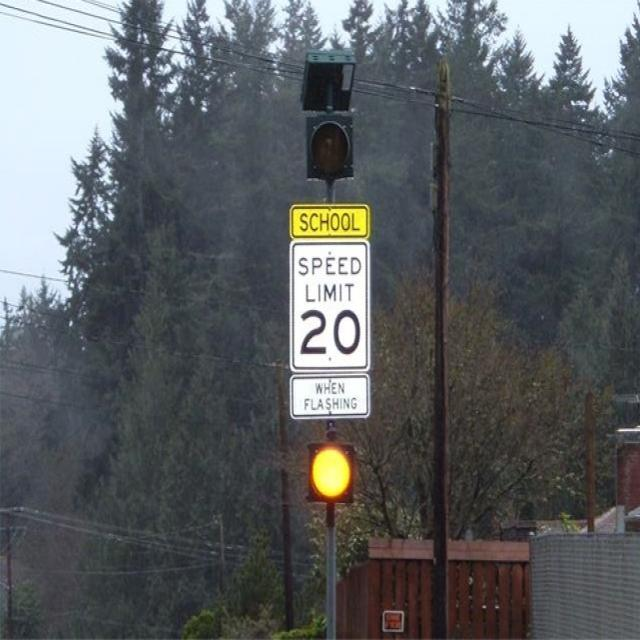Speed Limit Signs: (288, 233, 378, 382)
